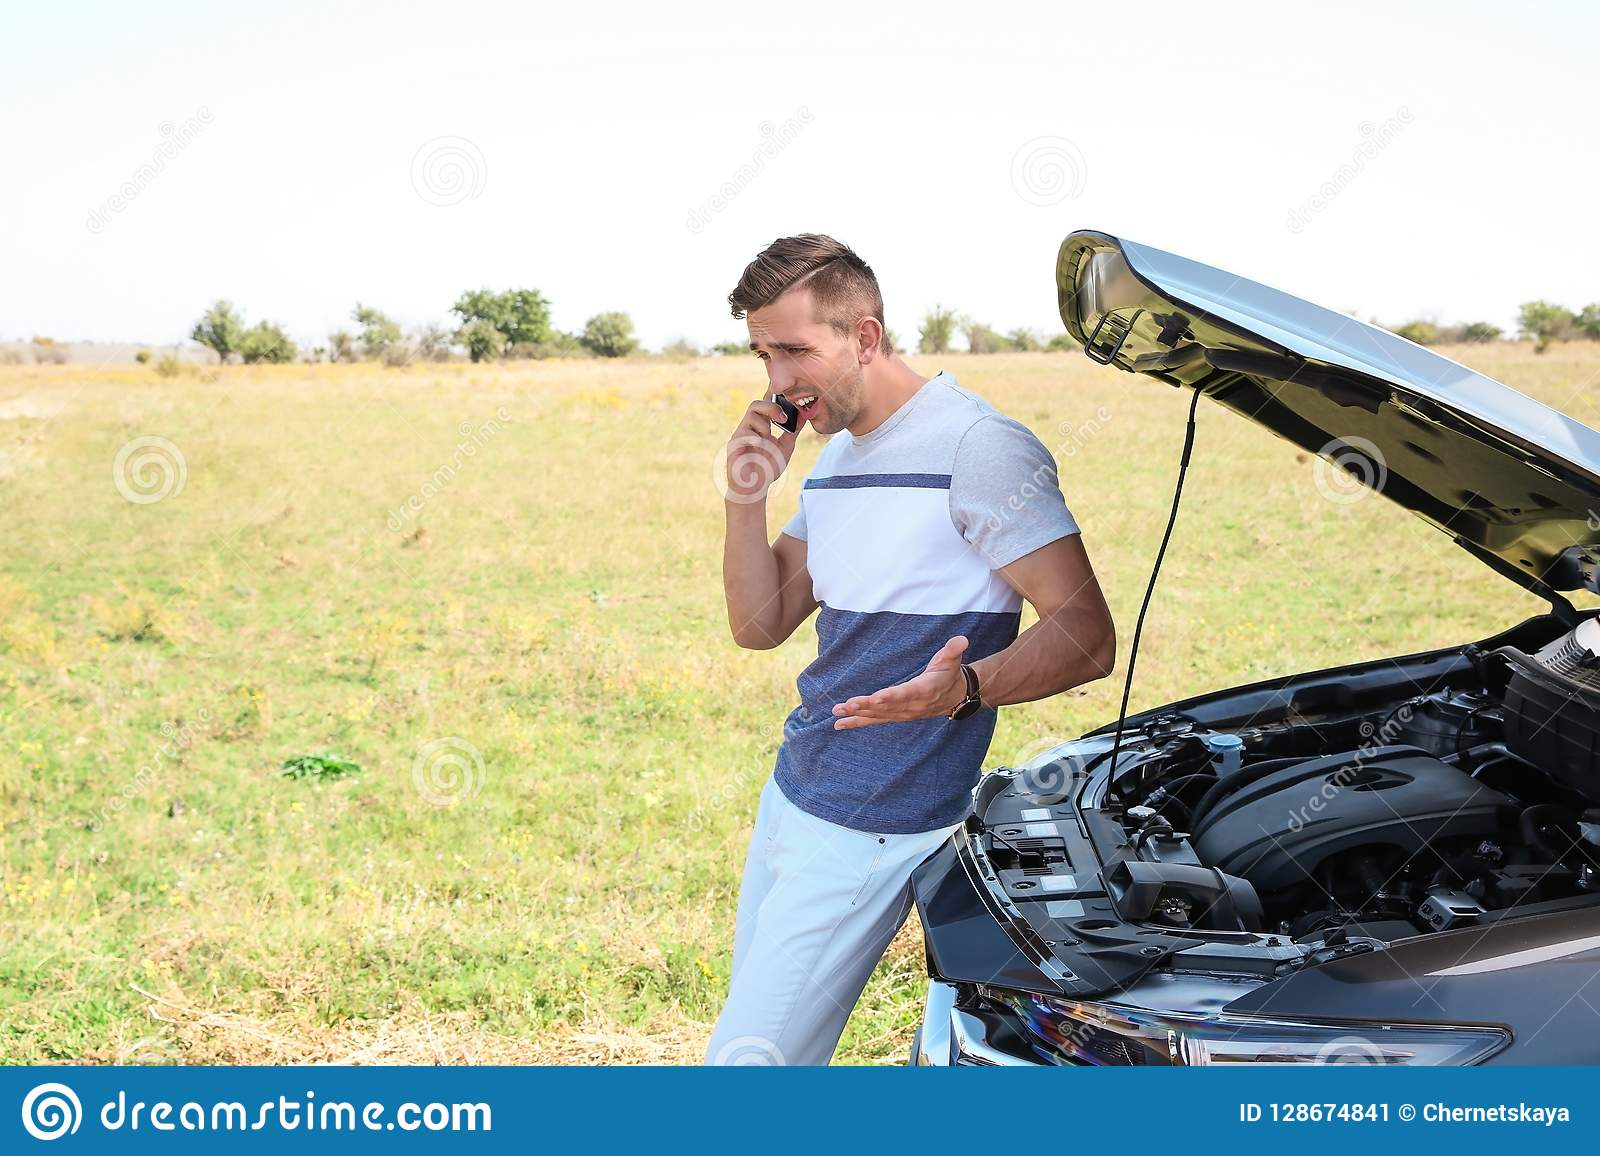phone: (765, 394, 804, 438)
talk: (727, 332, 827, 494)
